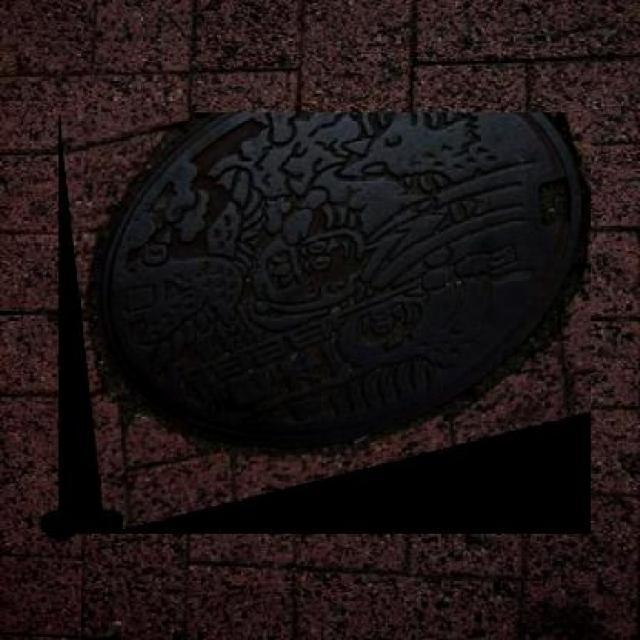Manhole: (58, 112, 592, 534)
